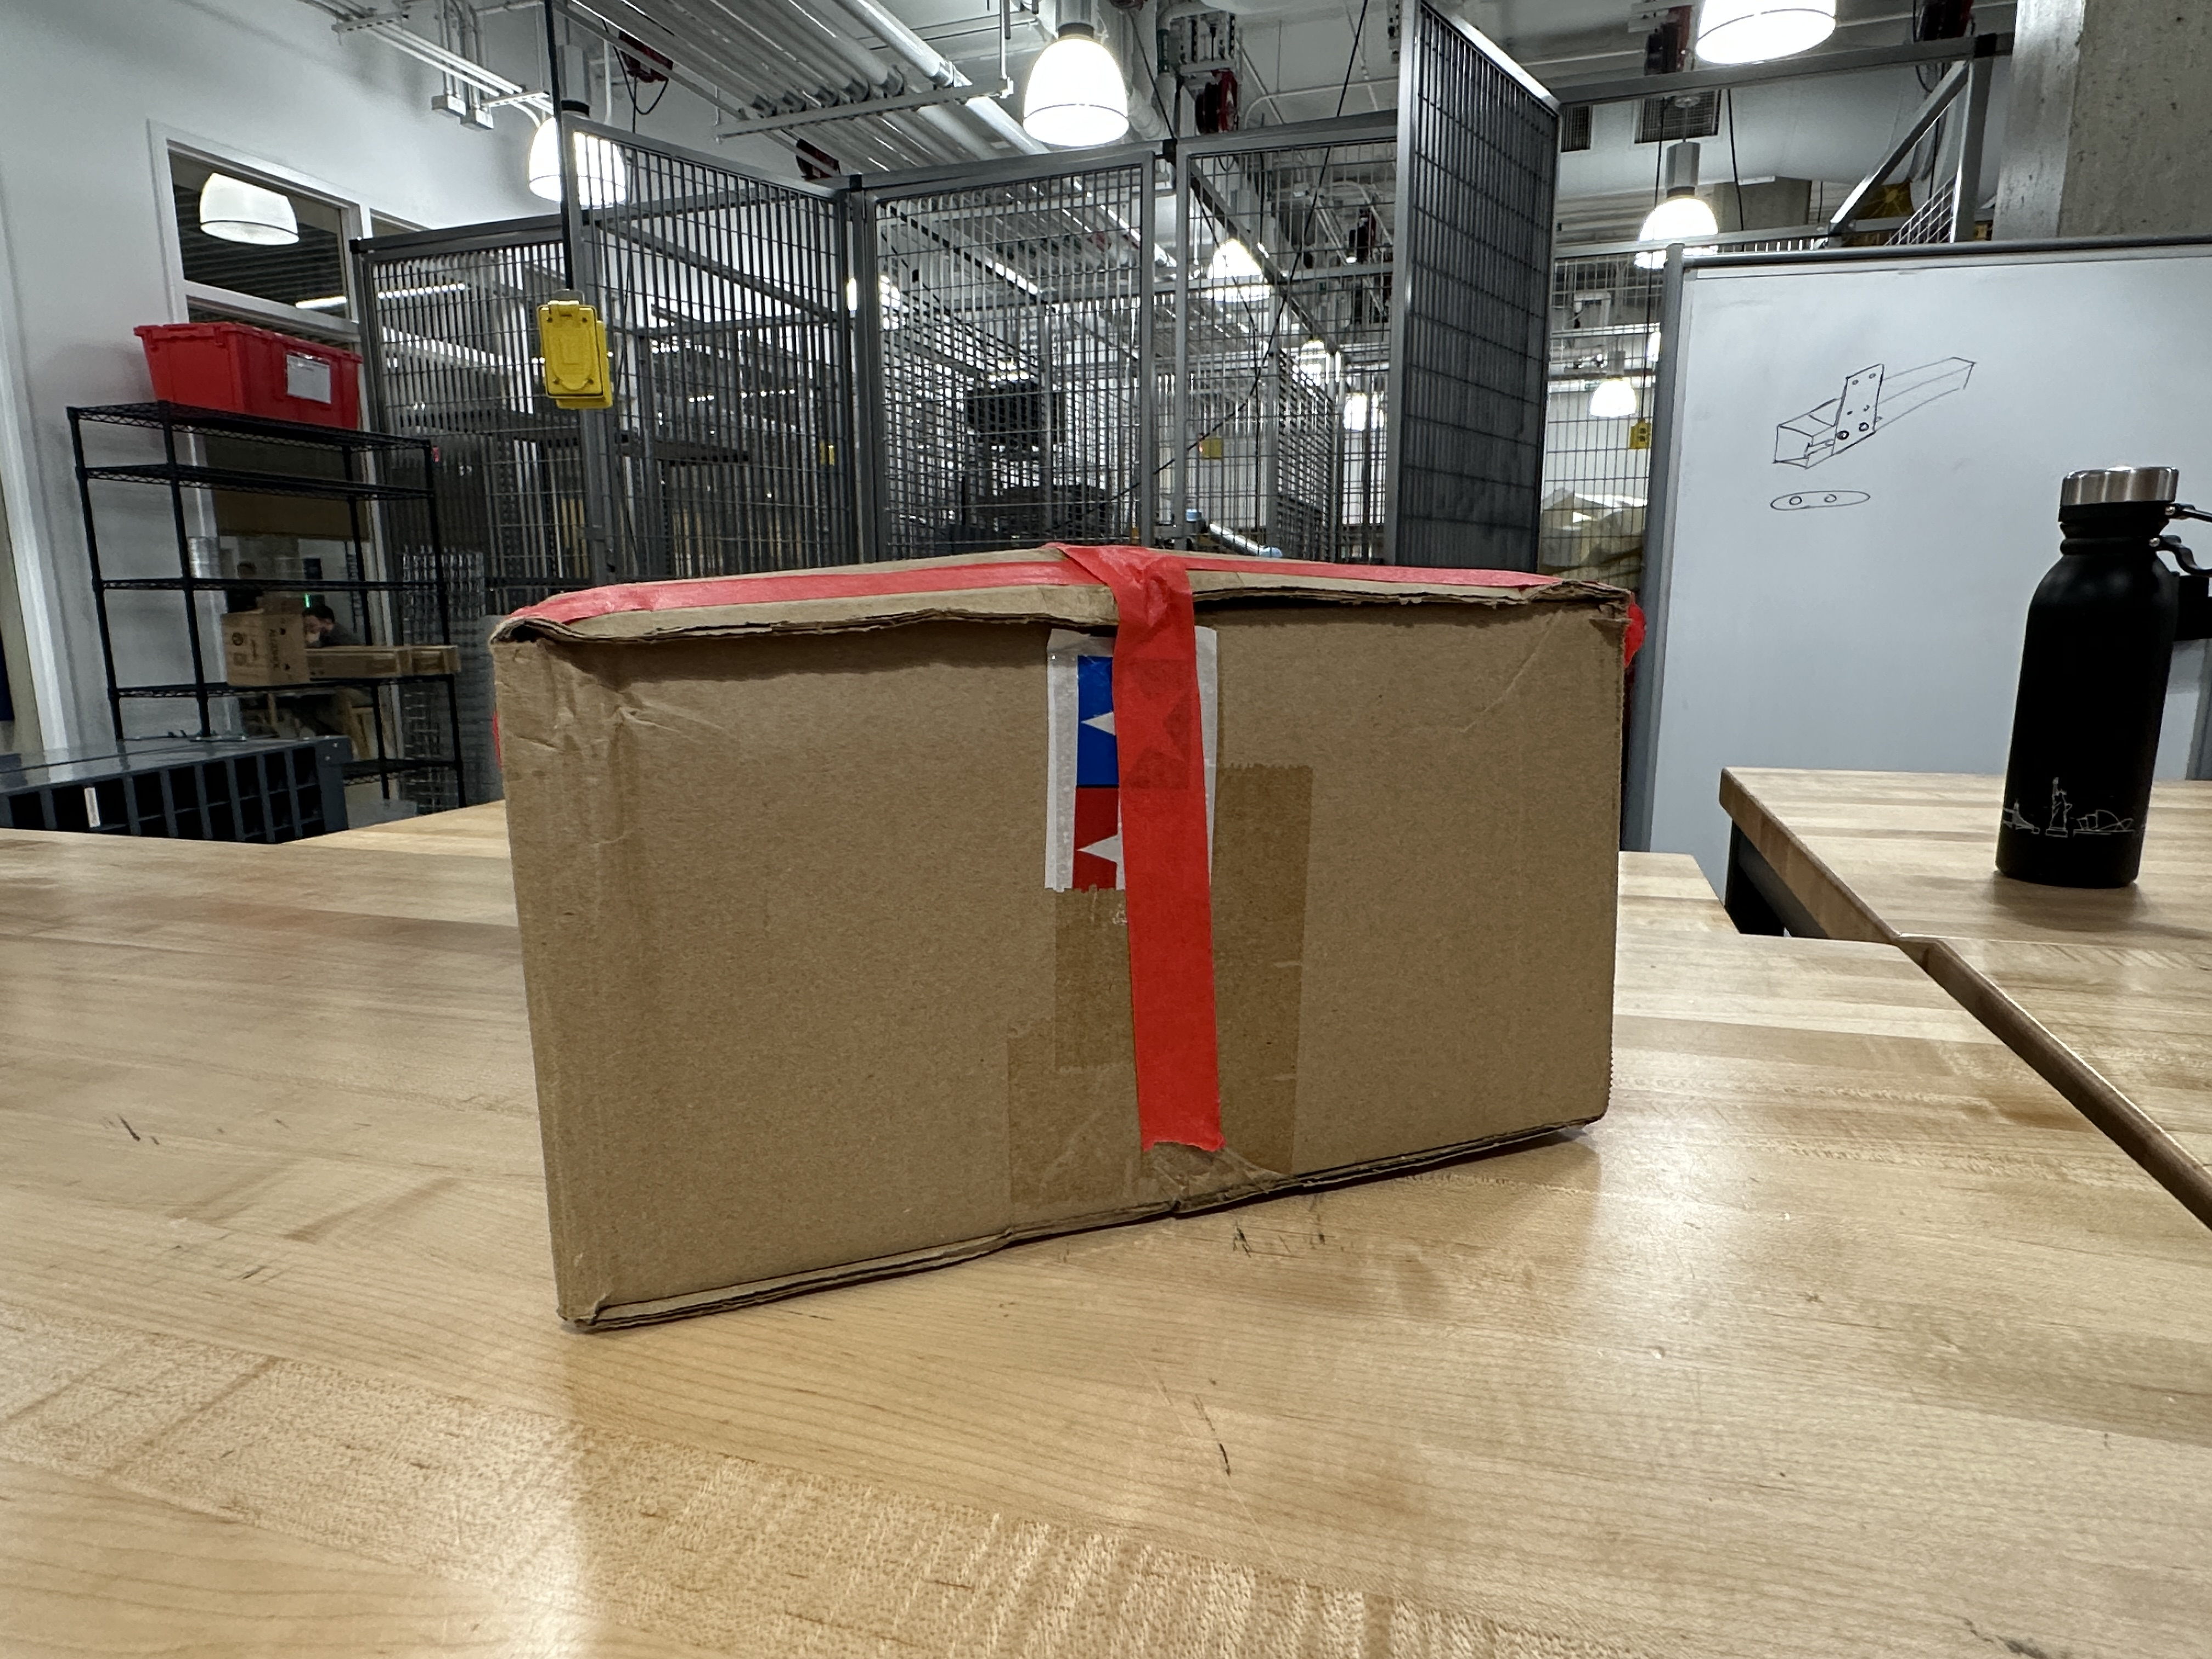Box_Obstacle: (482, 537, 1635, 1345)
